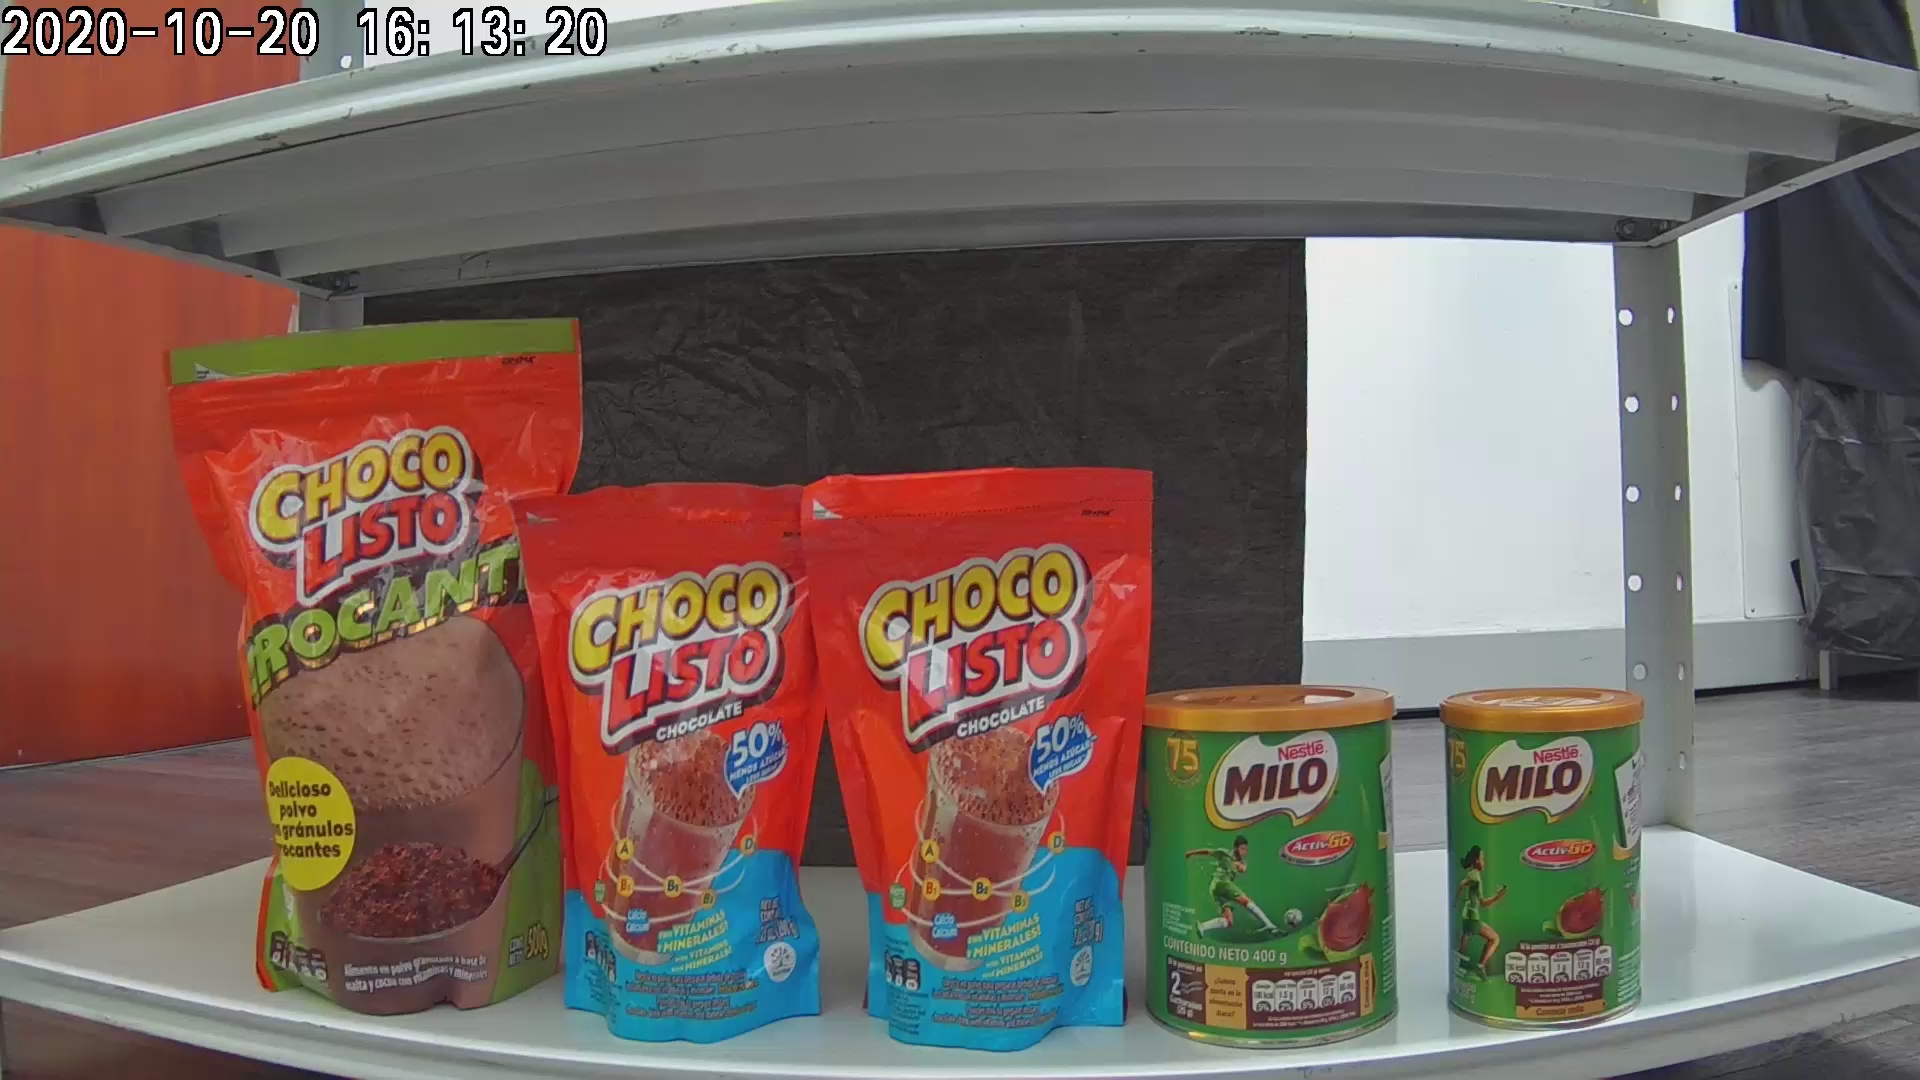COL0170102DYP50000: (186, 323, 636, 1011)
COL0170104DYP20000: (796, 473, 1184, 1058)
COL0170203LAT20000: (1431, 671, 1673, 1040)
COL0170203LAT40000: (1127, 675, 1431, 1058)
